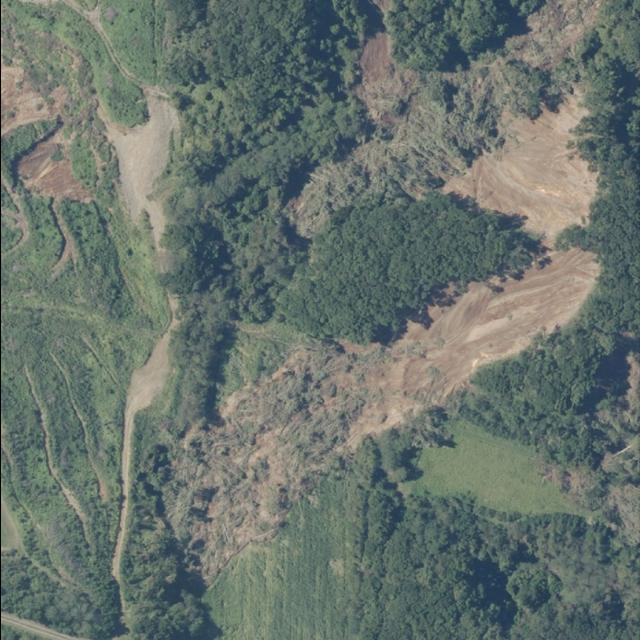landslide: (171, 0, 601, 580), (0, 60, 89, 260), (77, 85, 176, 252)
